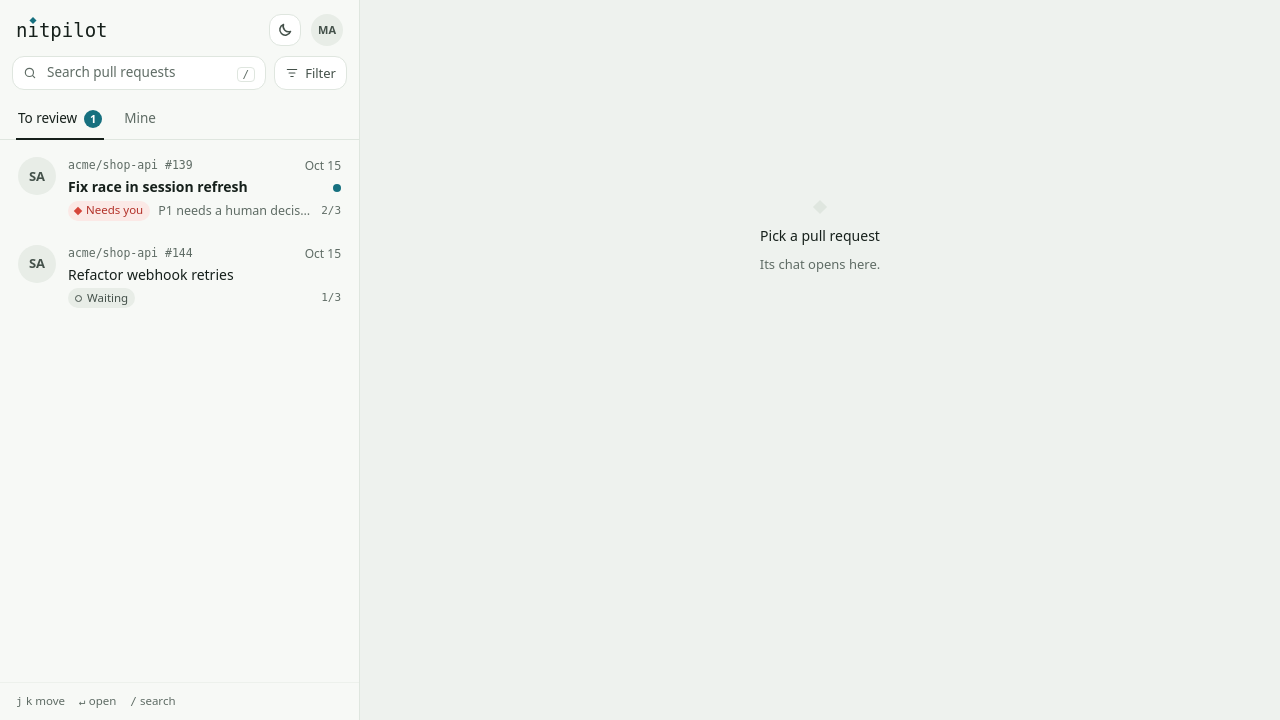
Scenario: Inbox (handoff §1) › searches, and says when nothing matches
Type "webhook" into the field named "Search pull requests". click: (137, 73)
box: [45,62,228,84]
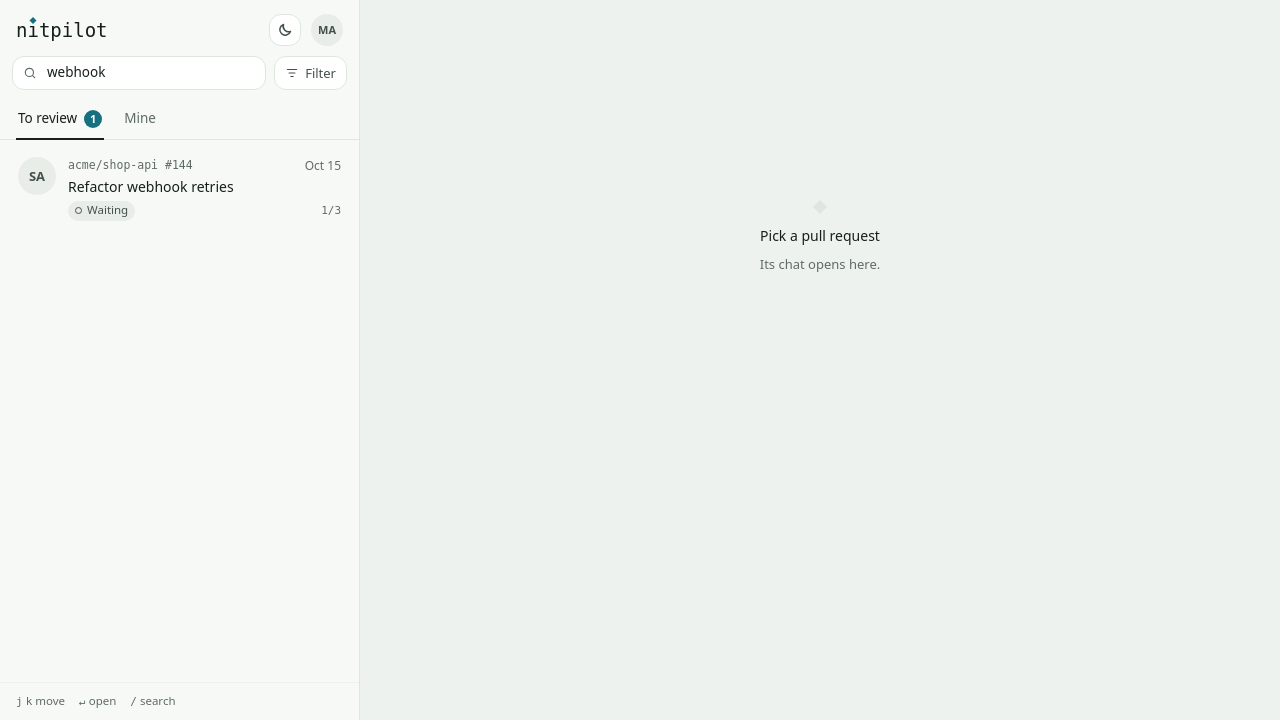
Type "zzz" into the field named "Search pull requests". click: (150, 73)
box: [45,62,255,84]
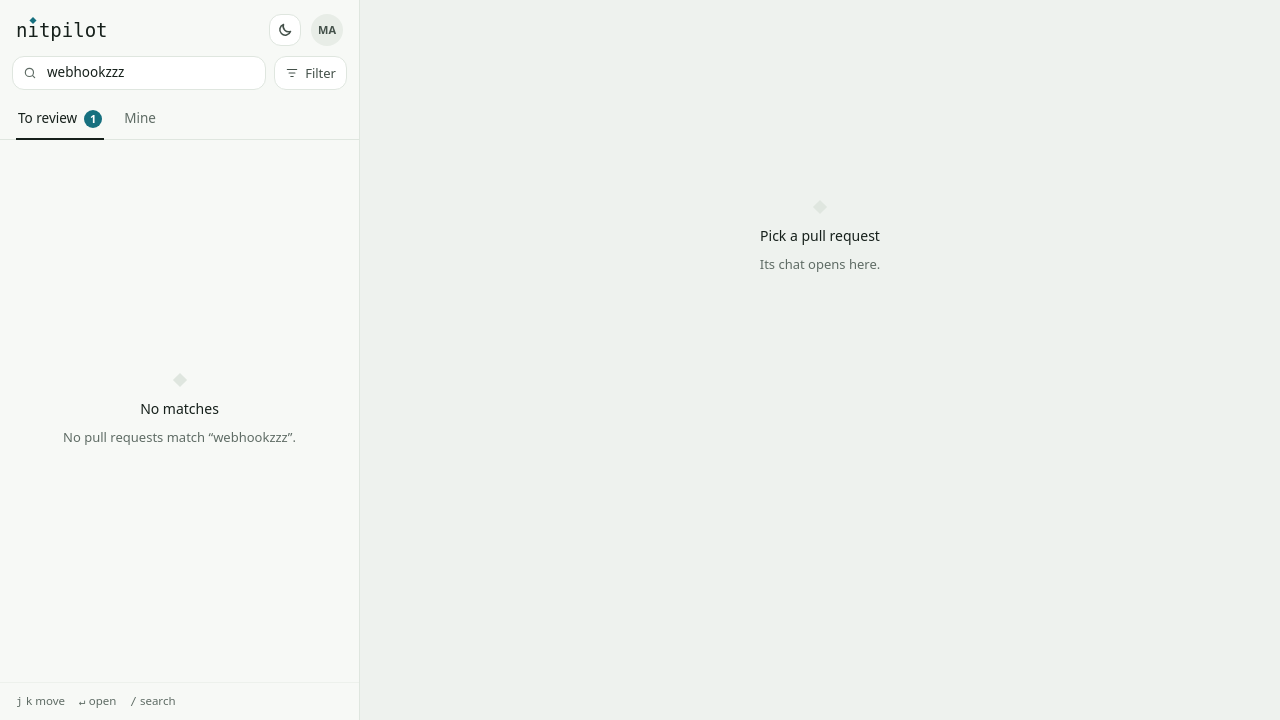
Expected: the text "No matches" is shown, [140,400,219,420]
Expected: the text "No pull requests match “webhookzzz”." is shown, [63,428,296,447]
